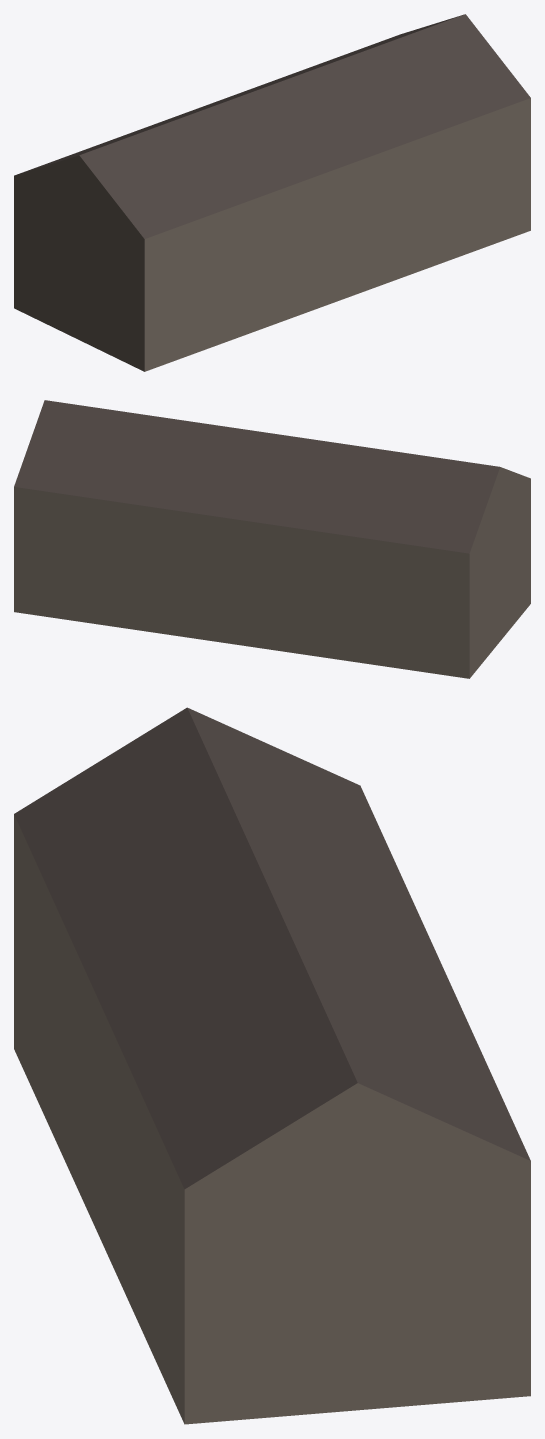
3 views of the same model, one above another, from view 1: azimuth 30°, elevation 25°; view 2: azimuth 150°, elevation 25°; view 3: azimuth 270°, elevation 25° (orthographic). The views are drawn at different scales.
Visible parts, largest first — view 1: HP-w553893879; view 2: HP-w553893879; view 3: HP-w553893879.
Part boxes in pixels (x1,y1,x2,y2): HP-w553893879: (14,14,530,371); HP-w553893879: (14,400,530,678); HP-w553893879: (14,707,530,1424).
Bounding box in the file's own units: 22.12 × 8.36 × 11.96.
